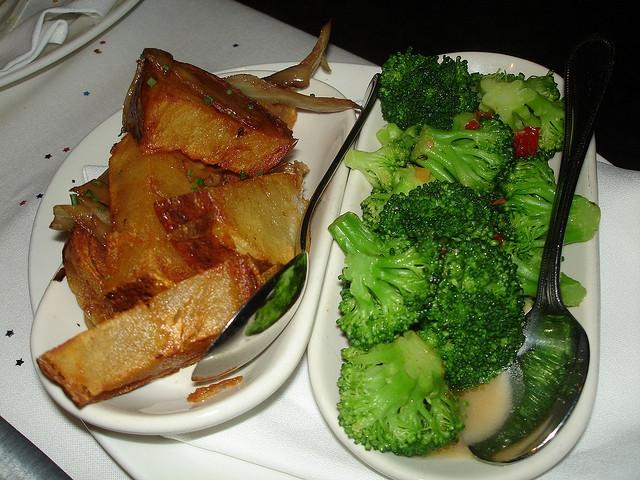broccoli: (418, 235, 528, 391), (336, 332, 469, 457), (335, 229, 444, 350), (486, 152, 600, 254), (494, 317, 578, 448), (377, 167, 500, 246), (411, 116, 514, 197), (477, 68, 565, 161), (378, 46, 462, 132), (500, 243, 586, 306), (328, 212, 414, 258), (343, 139, 412, 194), (392, 120, 422, 150)
green onion: (416, 166, 430, 182), (69, 194, 80, 205), (146, 77, 157, 88), (91, 180, 102, 189), (83, 190, 95, 198), (204, 98, 212, 107), (97, 206, 106, 213), (240, 169, 246, 178), (162, 64, 169, 70), (193, 177, 200, 183), (256, 172, 264, 177), (188, 169, 193, 177), (226, 89, 232, 95), (190, 186, 198, 190), (231, 114, 236, 119), (200, 180, 204, 186), (140, 54, 144, 59), (119, 170, 123, 175), (248, 106, 254, 109)
